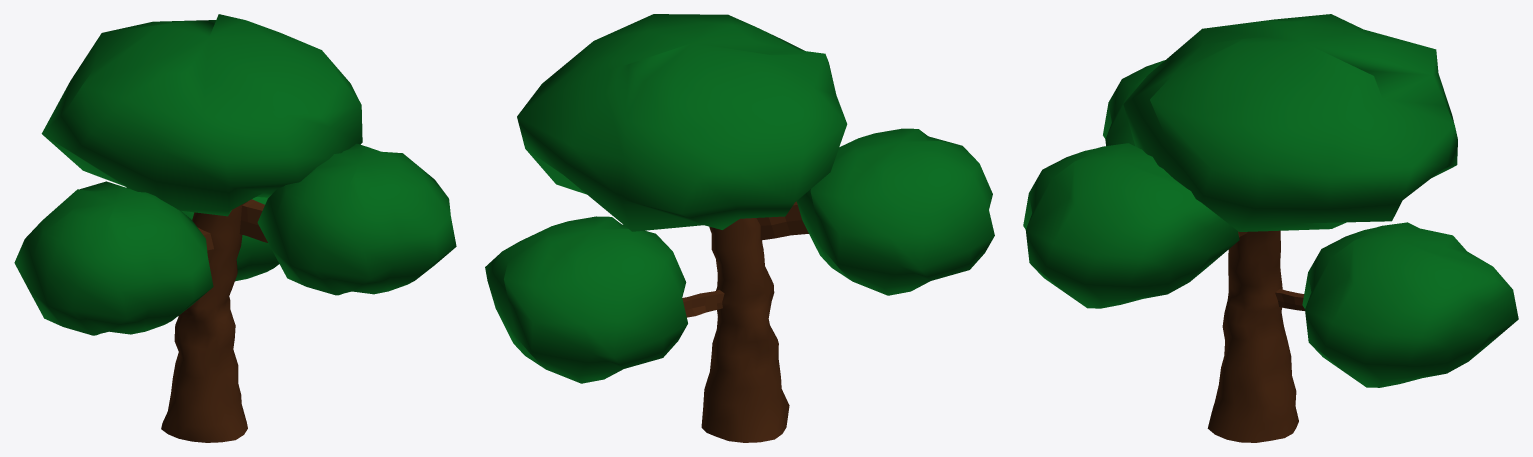
The model's file is tree_02.fbx.
3 renders of one model, left to right at view 1: azimuth 30°, elevation 25°; view 2: azimuth 150°, elevation 25°; view 3: azimuth 270°, elevation 25°, orthographic. The views are drawn at different scales.
Visible parts, largest first — view 1: Sphere103; view 2: Sphere103; view 3: Sphere103.
Part boxes in pixels (box(x1,y1,x2,y2)): Sphere103: box(14, 14, 456, 442); Sphere103: box(485, 14, 994, 442); Sphere103: box(1023, 14, 1518, 442).
Bounding box in the file's own units: 1270 × 1189 × 1349.
